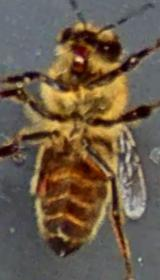varroa_mite: (66, 149, 108, 182), (23, 164, 52, 198)
